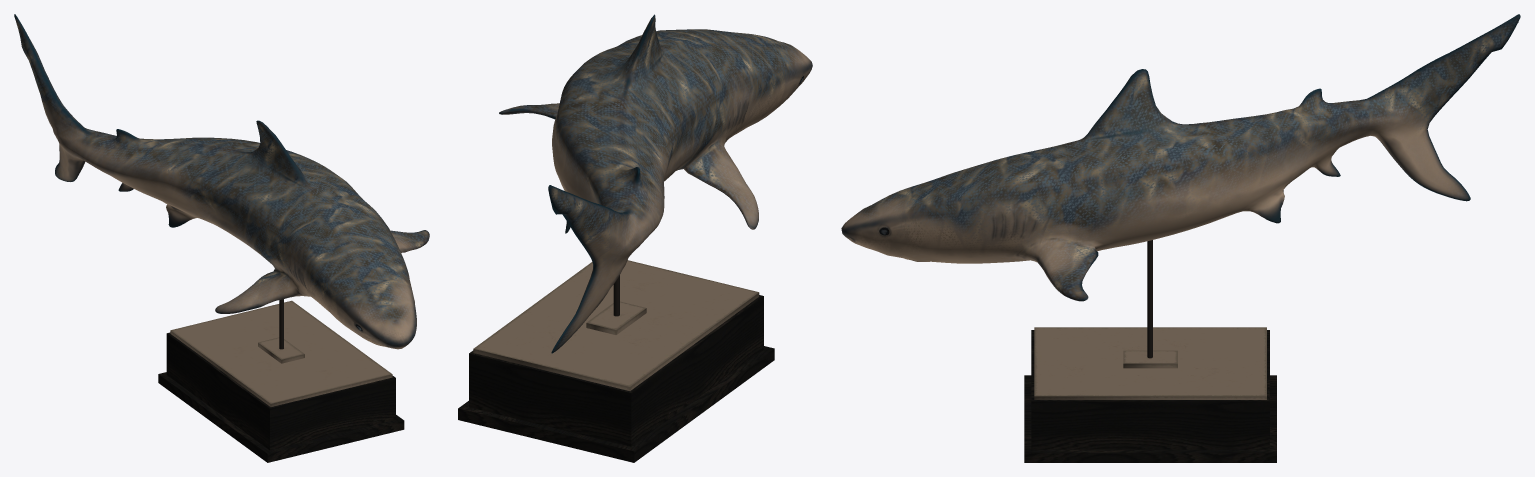
Rendered from ph_bronze_shark_statue.glb.
3 renders of one model, left to right at view 1: azimuth 30°, elevation 25°; view 2: azimuth 150°, elevation 25°; view 3: azimuth 270°, elevation 25°, orthographic. The views are drawn at different scales.
Parts seen in each view (by area): view 1: ph_bronze_shark_statue; view 2: ph_bronze_shark_statue; view 3: ph_bronze_shark_statue.
Boxes of the visible parts, <box> form: ph_bronze_shark_statue: <box>14,14,429,462</box>; ph_bronze_shark_statue: <box>458,14,812,462</box>; ph_bronze_shark_statue: <box>841,14,1520,462</box>.
Size of the model in its own units: 0.352 by 0.4316 by 0.7598.
1 material, 1 textured.
